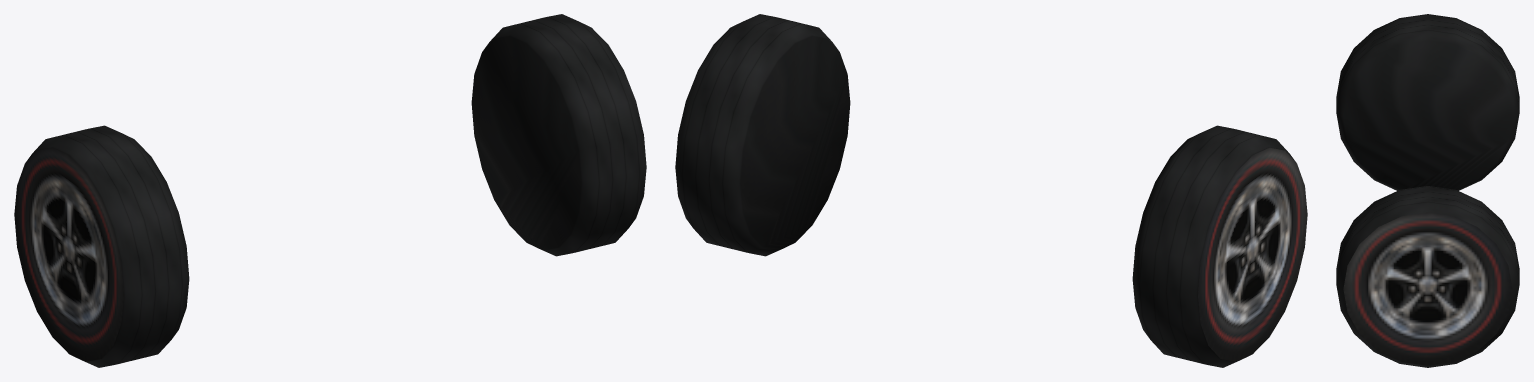
File: charger_70_wheels_f.obj
3 renders of one model, left to right at view 1: azimuth 30°, elevation 25°; view 2: azimuth 150°, elevation 25°; view 3: azimuth 270°, elevation 25°, orthographic. The views are drawn at different scales.
Parts seen in each view (by area): view 1: charger_70_wheels_f; view 2: charger_70_wheels_f; view 3: charger_70_wheels_f.
Part boxes in pixels (box(x1,y1,x2,y2)): charger_70_wheels_f: box(14, 14, 646, 367); charger_70_wheels_f: box(675, 14, 1307, 367); charger_70_wheels_f: box(1336, 14, 1519, 367).
Size of the model in its own units: 1.71 by 0.6757 by 0.6757.
